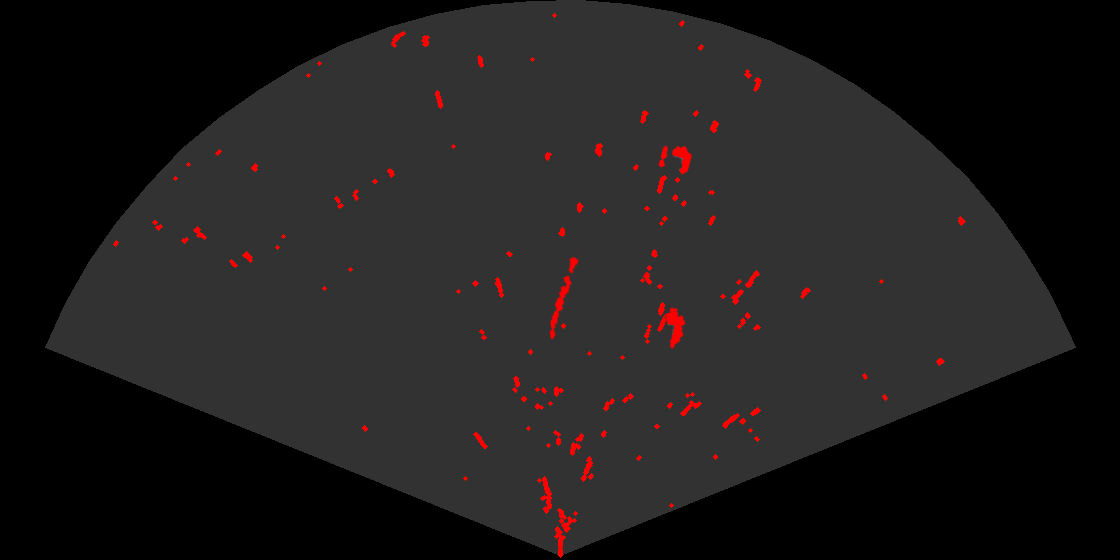AUV: (664, 305, 687, 351)
ball: (657, 144, 693, 176)
chain: (548, 250, 580, 341)
